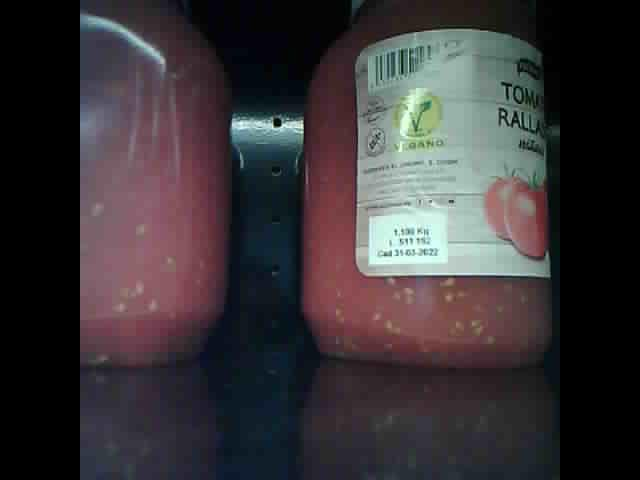tomate: (300, 9, 550, 364), (81, 5, 233, 367)
